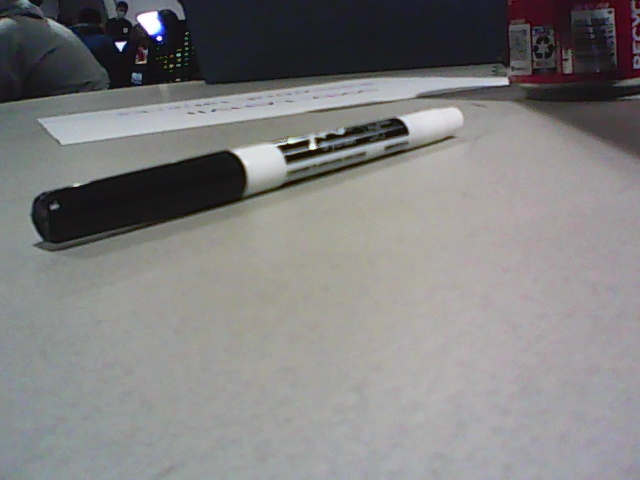marker: (32, 106, 464, 244)
